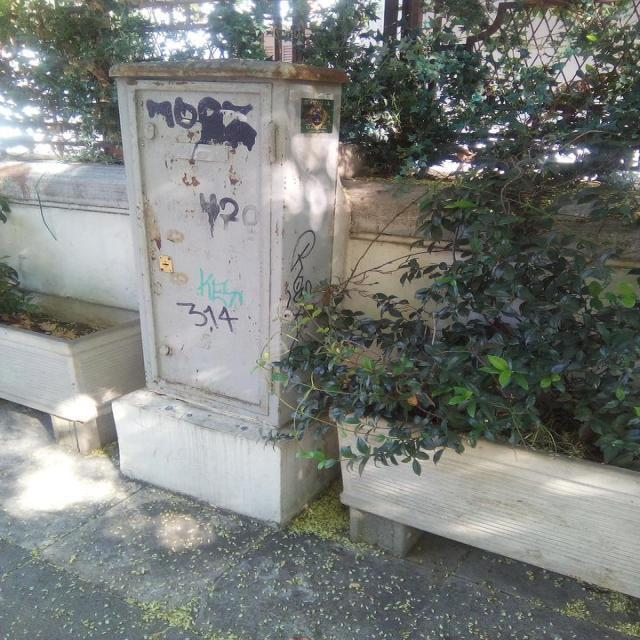nonspitting: (142, 97, 257, 148), (288, 227, 322, 304), (174, 298, 240, 332), (194, 266, 246, 308), (200, 190, 250, 226)
